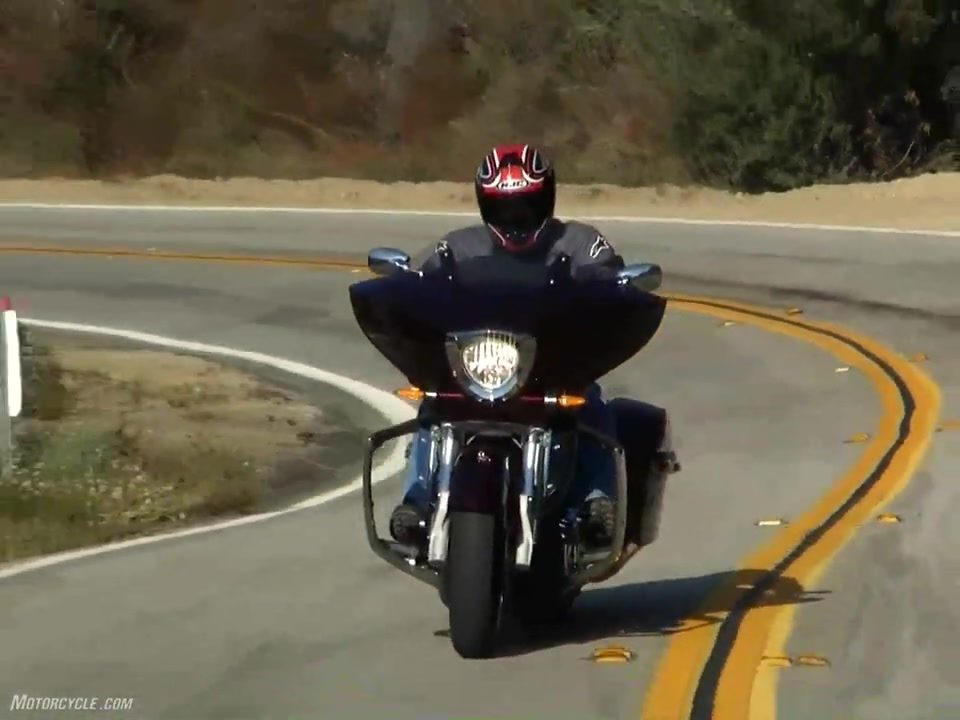motorbike: (346, 236, 674, 665)
